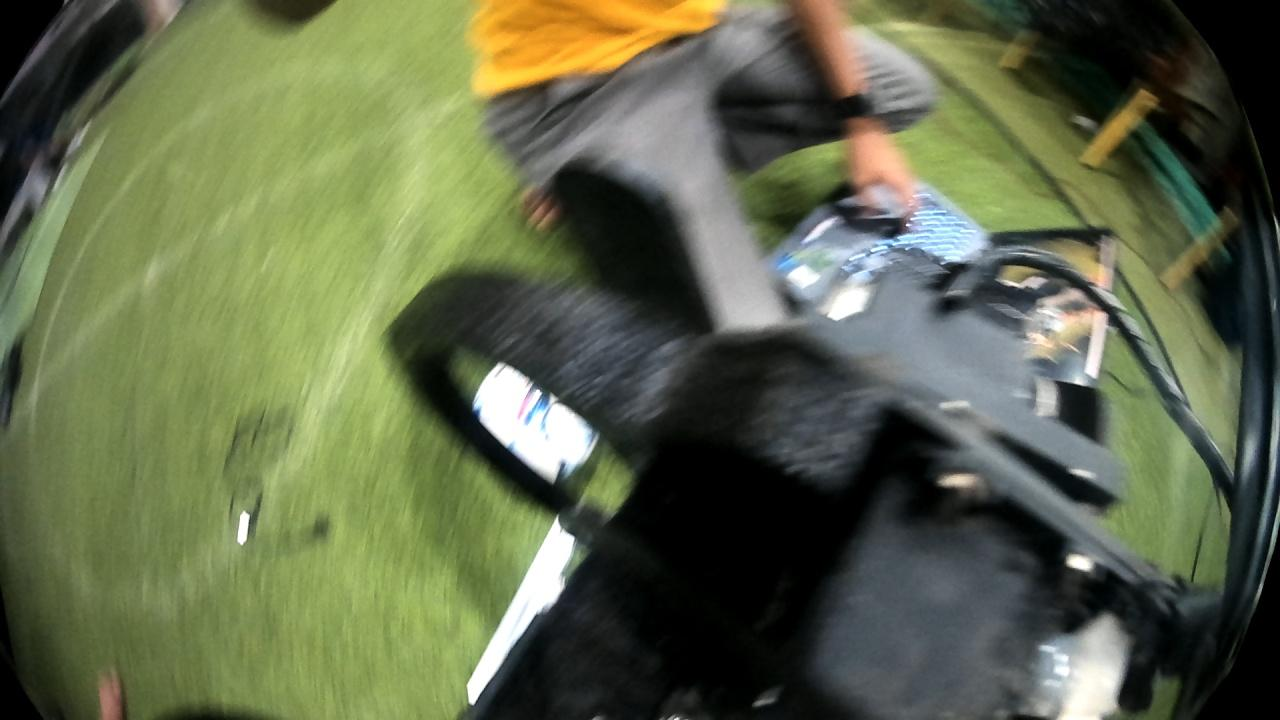ball: (474, 341, 609, 482)
